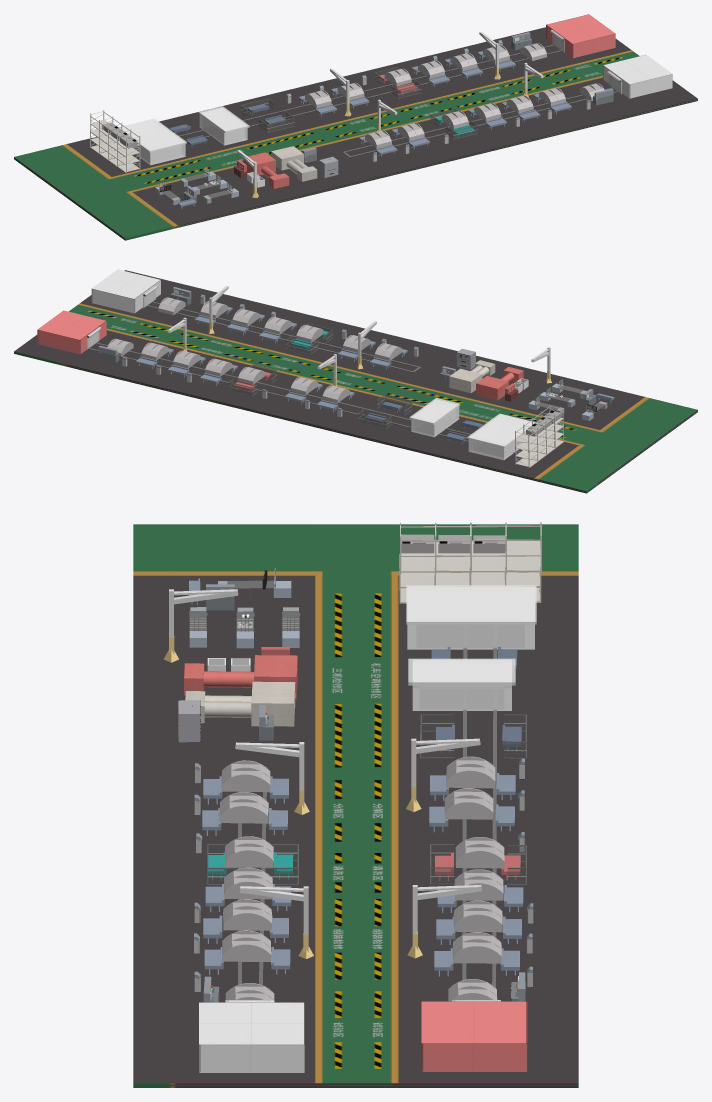
The model's file is aircondition-line.glb.
3 renders of one model, top to bottom at view 1: azimuth 30°, elevation 25°; view 2: azimuth 150°, elevation 25°; view 3: azimuth 270°, elevation 25°, orthographic. The views are drawn at different scales.
Visible parts, largest first — view 1: 81CA0662-7061-4C68-9825-18976ADB30FD, 32AEA8EC-AB4A-466B-BA4E-52C44D08A70D, A664A524-4DAA-4F16-AB8A-2F121007DA0F, Object005_0 (×2), D92429B9-423D-4EFD-9489-D3ADB96FAD1F, 2C3C1741-9D08-44CC-91F3-1745B205F38C, Object005_2 (×2), 42707FFD-EC81-460A-BDEA-0EF75EDC2A18, 5336D3F6-7406-4804-99C8-1725895CEC4E, Lo-万能方盒子_01, 88FBA09C-BA48-4D2B-8C4B-BE719F98D85E, Lo-BODY_01; view 2: 81CA0662-7061-4C68-9825-18976ADB30FD, 32AEA8EC-AB4A-466B-BA4E-52C44D08A70D, A664A524-4DAA-4F16-AB8A-2F121007DA0F, Object005_0 (×2), D92429B9-423D-4EFD-9489-D3ADB96FAD1F, 2C3C1741-9D08-44CC-91F3-1745B205F38C, Object005_4 (×2), 42707FFD-EC81-460A-BDEA-0EF75EDC2A18, Lo-万能方盒子_01, 5336D3F6-7406-4804-99C8-1725895CEC4E, 88FBA09C-BA48-4D2B-8C4B-BE719F98D85E, 备份1002; view 3: 81CA0662-7061-4C68-9825-18976ADB30FD, 备份1002 (×13), A664A524-4DAA-4F16-AB8A-2F121007DA0F, 32AEA8EC-AB4A-466B-BA4E-52C44D08A70D, Object005_0 (×2), D92429B9-423D-4EFD-9489-D3ADB96FAD1F, Object005_3 (×2), 2C3C1741-9D08-44CC-91F3-1745B205F38C, 5336D3F6-7406-4804-99C8-1725895CEC4E, 42707FFD-EC81-460A-BDEA-0EF75EDC2A18, Lo-万能方盒子_01, Lo-BODY_01 (+1 smaller).
Boxes of the visible parts, bbox=[...] form: 81CA0662-7061-4C68-9825-18976ADB30FD: bbox=[14, 27, 697, 240]; 32AEA8EC-AB4A-466B-BA4E-52C44D08A70D: bbox=[90, 40, 590, 209]; A664A524-4DAA-4F16-AB8A-2F121007DA0F: bbox=[120, 108, 247, 165]; Object005_0 (×2): bbox=[546, 14, 671, 84]; D92429B9-423D-4EFD-9489-D3ADB96FAD1F: bbox=[118, 106, 249, 152]; 2C3C1741-9D08-44CC-91F3-1745B205F38C: bbox=[240, 67, 477, 139]; Object005_2 (×2): bbox=[572, 33, 672, 98]; 42707FFD-EC81-460A-BDEA-0EF75EDC2A18: bbox=[132, 44, 617, 157]; 5336D3F6-7406-4804-99C8-1725895CEC4E: bbox=[271, 146, 303, 170]; Lo-万能方盒子_01: bbox=[243, 152, 275, 175]; 88FBA09C-BA48-4D2B-8C4B-BE719F98D85E: bbox=[550, 30, 621, 94]; Lo-BODY_01: bbox=[319, 156, 338, 177]; 81CA0662-7061-4C68-9825-18976ADB30FD: bbox=[14, 270, 697, 493]; 32AEA8EC-AB4A-466B-BA4E-52C44D08A70D: bbox=[122, 294, 614, 467]; A664A524-4DAA-4F16-AB8A-2F121007DA0F: bbox=[411, 400, 533, 460]; Object005_0 (×2): bbox=[37, 269, 160, 339]; D92429B9-423D-4EFD-9489-D3ADB96FAD1F: bbox=[409, 397, 535, 447]; 2C3C1741-9D08-44CC-91F3-1745B205F38C: bbox=[229, 323, 412, 428]; Object005_4 (×2): bbox=[37, 289, 134, 354]; 42707FFD-EC81-460A-BDEA-0EF75EDC2A18: bbox=[88, 301, 518, 453]; Lo-万能方盒子_01: bbox=[476, 375, 508, 400]; 5336D3F6-7406-4804-99C8-1725895CEC4E: bbox=[449, 368, 482, 393]; 88FBA09C-BA48-4D2B-8C4B-BE719F98D85E: bbox=[87, 285, 157, 349]; 备份1002: bbox=[374, 343, 402, 360]; 81CA0662-7061-4C68-9825-18976ADB30FD: bbox=[133, 524, 578, 1087]; 备份1002 (×13): bbox=[219, 756, 504, 1001]; A664A524-4DAA-4F16-AB8A-2F121007DA0F: bbox=[407, 587, 534, 710]; 32AEA8EC-AB4A-466B-BA4E-52C44D08A70D: bbox=[189, 522, 541, 991]; Object005_0 (×2): bbox=[199, 1001, 527, 1044]; D92429B9-423D-4EFD-9489-D3ADB96FAD1F: bbox=[406, 585, 536, 685]; Object005_3 (×2): bbox=[199, 1043, 527, 1072]; 2C3C1741-9D08-44CC-91F3-1745B205F38C: bbox=[207, 714, 526, 885]; 5336D3F6-7406-4804-99C8-1725895CEC4E: bbox=[251, 681, 295, 726]; 42707FFD-EC81-460A-BDEA-0EF75EDC2A18: bbox=[238, 647, 497, 987]; Lo-万能方盒子_01: bbox=[254, 655, 297, 699]; Lo-BODY_01: bbox=[178, 700, 200, 742].
Size of what is drawn, in the model's own units: 83.86 by 5.24 by 28.22.
164 materials, 75 textured.
